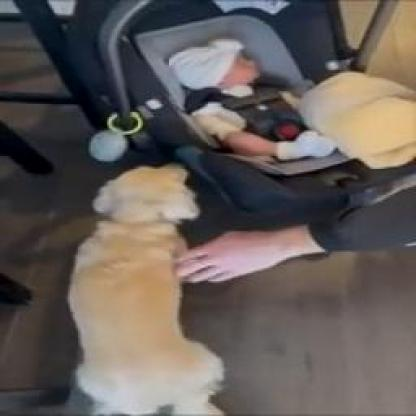dog: (22, 154, 233, 416)
